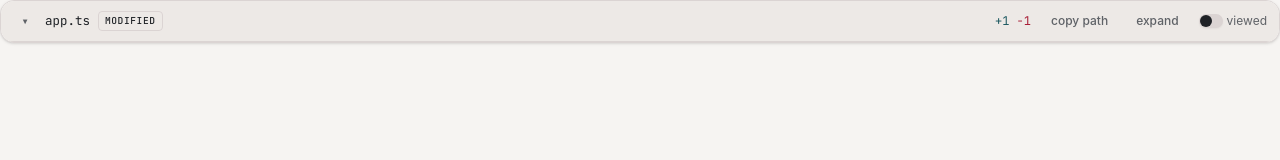
expand surfaces an error notice when file-content fetch rejects
Step 1. Click the button "expand" → (1157, 21), box [1128,9,1187,33]
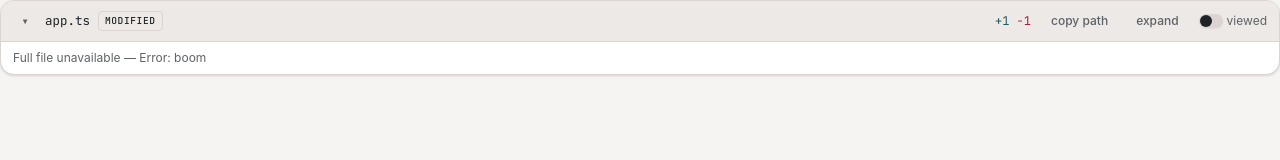
Expected: the text "Full file unavailable — Error: boom" is shown, [13,50,206,65]
